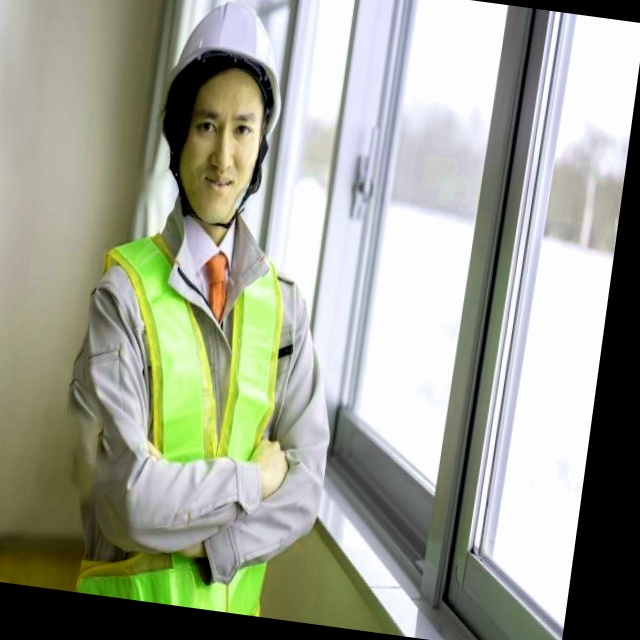Con_Casco: (146, 0, 295, 221)
Con_Chaleco: (68, 221, 311, 617)
